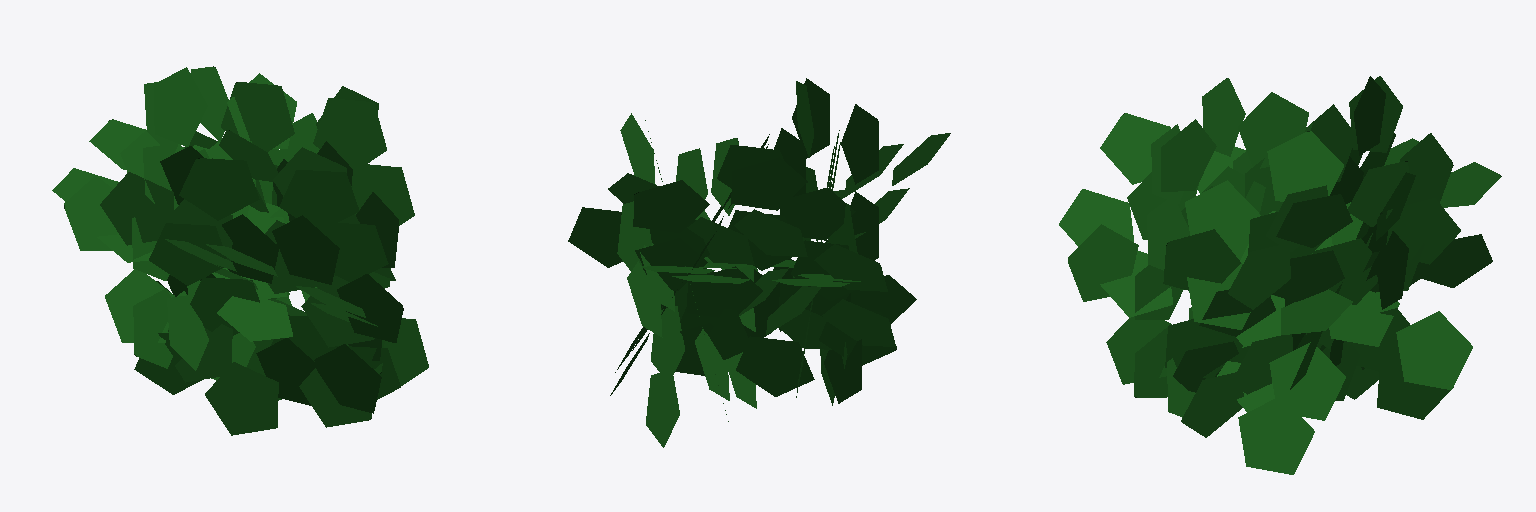
3 renders of one model, left to right at view 1: azimuth 30°, elevation 25°; view 2: azimuth 150°, elevation 25°; view 3: azimuth 270°, elevation 25°, orthographic.
Visible parts, largest first — view 1: Plane.007_Plane.013; view 2: Plane.007_Plane.013; view 3: Plane.007_Plane.013.
Part boxes in pixels (x1,y1,x2,y2): Plane.007_Plane.013: (52, 66, 428, 435); Plane.007_Plane.013: (568, 78, 950, 447); Plane.007_Plane.013: (1059, 76, 1501, 474).
Size of the model in its own units: 1.48 by 1.43 by 1.86.
Materials: 1 (1 with a texture image).